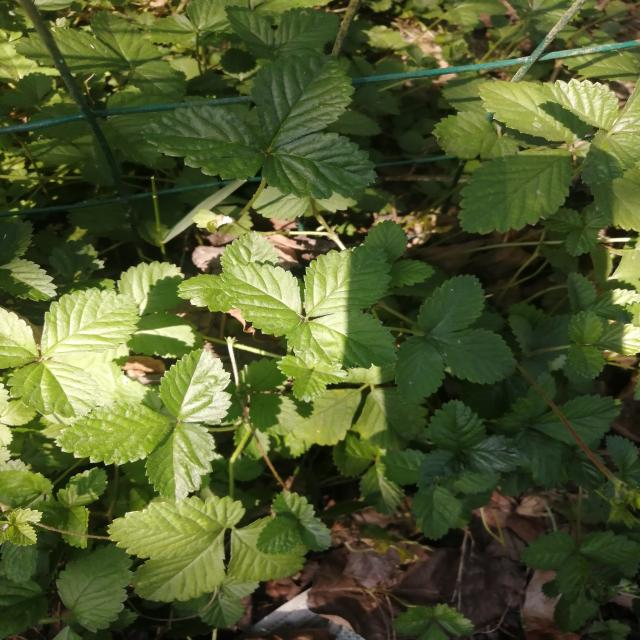Mock_strawberry: (191, 223, 512, 400), (0, 298, 260, 501)
